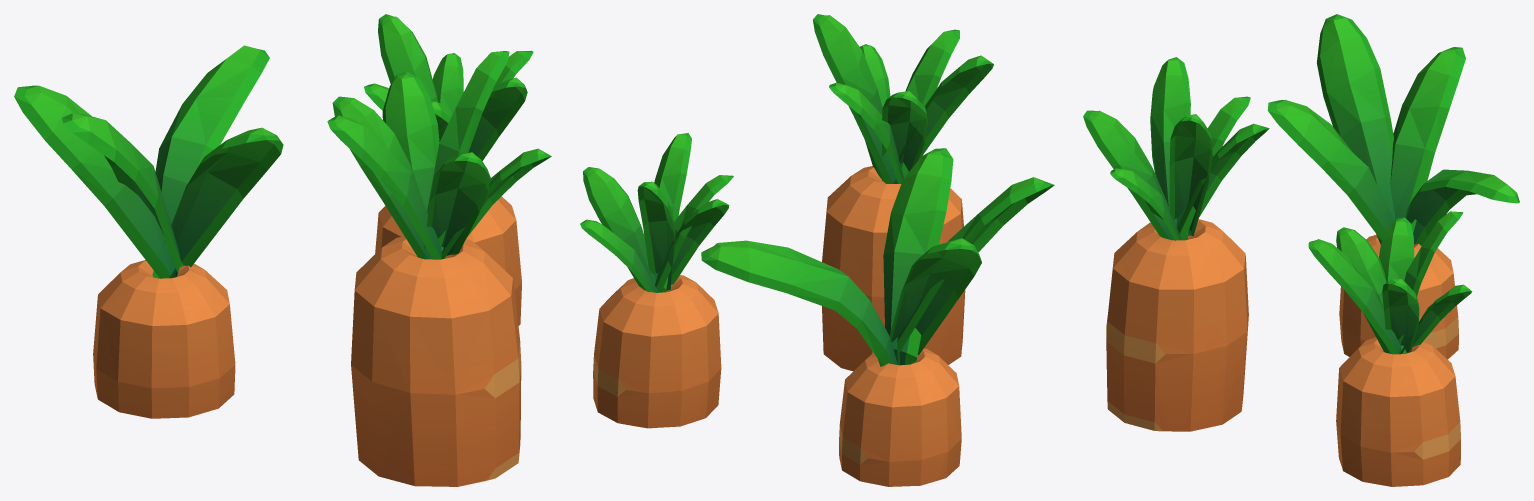
The model's file is crop_carrot_stage3.glb.
3 renders of one model, left to right at view 1: azimuth 30°, elevation 25°; view 2: azimuth 150°, elevation 25°; view 3: azimuth 270°, elevation 25°, orthographic. The views are drawn at different scales.
Visible parts, largest first — view 1: crop_carrot_stage3; view 2: crop_carrot_stage3; view 3: crop_carrot_stage3.
Part boxes in pixels (left/top/right/bottom): crop_carrot_stage3: left=14, top=14, right=551, bottom=486; crop_carrot_stage3: left=580, top=14, right=1054, bottom=486; crop_carrot_stage3: left=1083, top=14, right=1519, bottom=486.
Size of the model in its own units: 0.4653 by 0.33 by 0.4144.
1 material, 1 textured.
